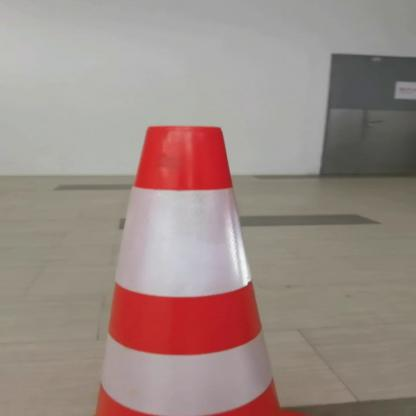cone: (61, 112, 347, 416)
